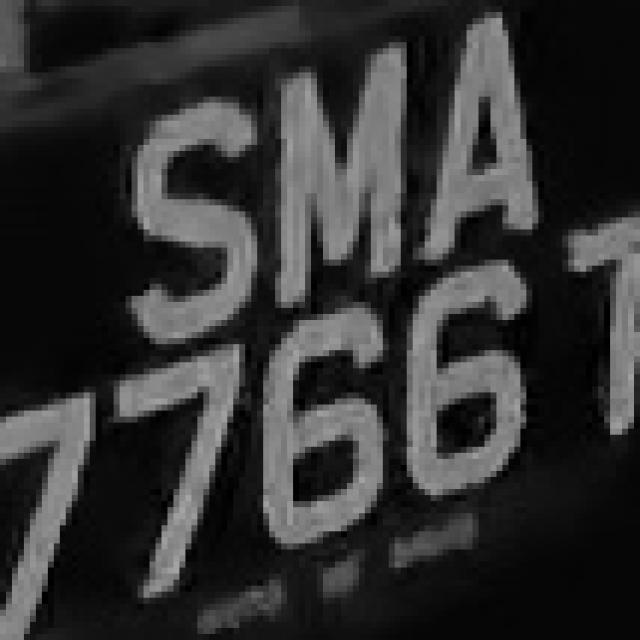6: (239, 326, 389, 568), (395, 272, 520, 507)
7: (120, 356, 239, 598), (12, 380, 114, 622)
A: (431, 12, 574, 266)
M: (251, 60, 419, 308)
S: (102, 97, 263, 356)
T: (526, 217, 640, 453)
